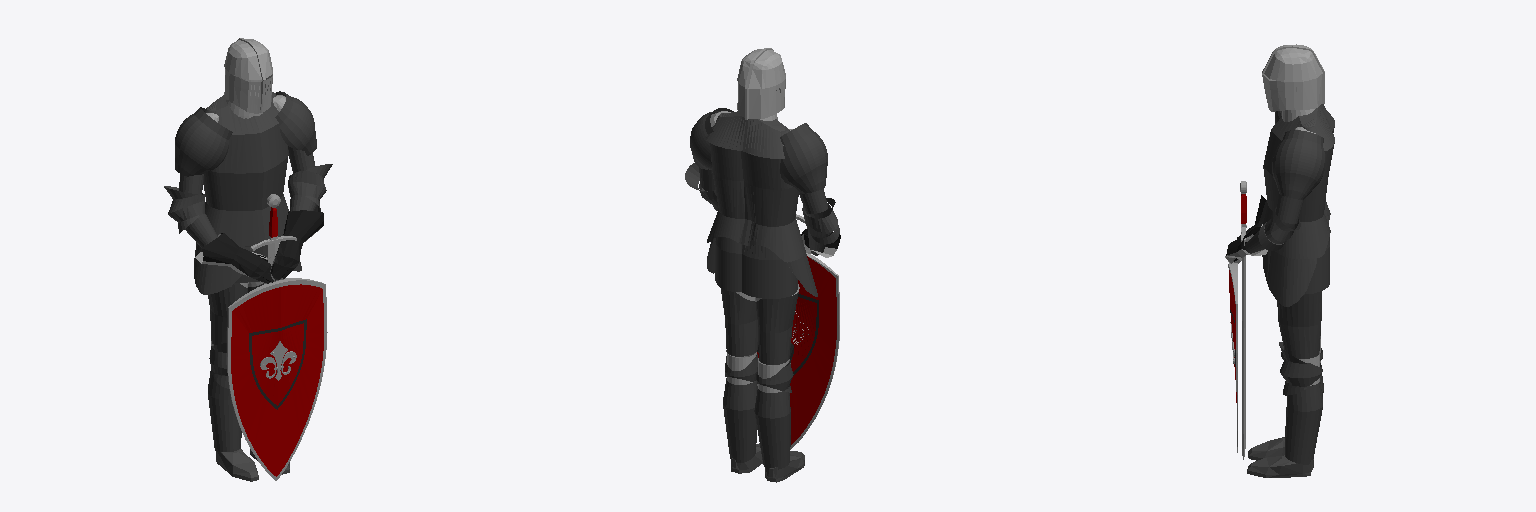
File: knight.obj
The picture shows the model from 3 angles: view 1: azimuth 30°, elevation 25°; view 2: azimuth 150°, elevation 25°; view 3: azimuth 270°, elevation 25°; orthographic projection.
Visible parts, largest first — view 1: SuitOfArmour_suitOfArmour; view 2: SuitOfArmour_suitOfArmour; view 3: SuitOfArmour_suitOfArmour.
Part boxes in pixels (x1,y1,x2,y2): SuitOfArmour_suitOfArmour: (164,38,332,481); SuitOfArmour_suitOfArmour: (685,48,840,482); SuitOfArmour_suitOfArmour: (1225,44,1334,477).
Bounding box in the file's own units: 2.12 × 5.42 × 1.29.